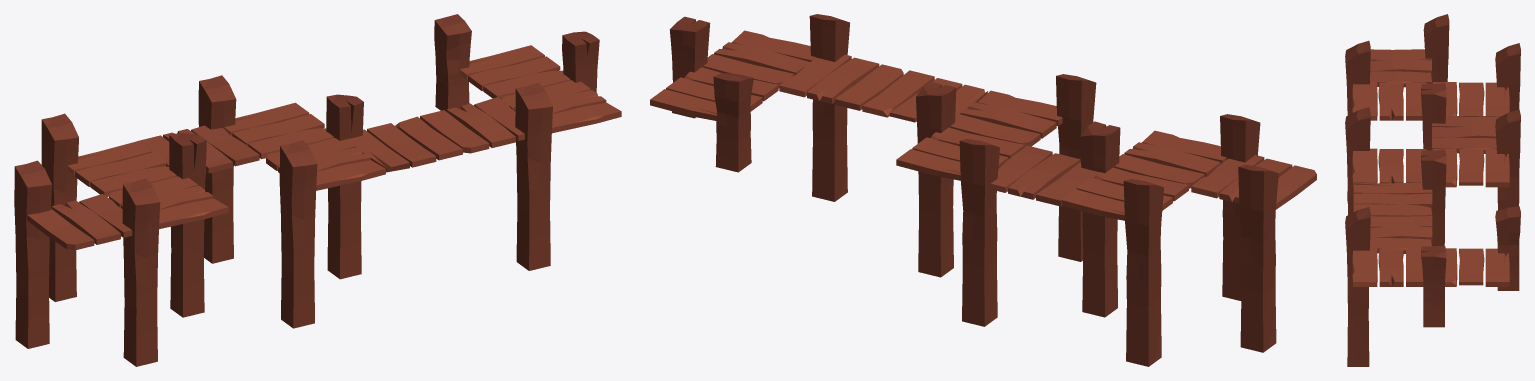
The model's file is m_bg_docksDark_01.fbx.
3 renders of one model, left to right at view 1: azimuth 30°, elevation 25°; view 2: azimuth 150°, elevation 25°; view 3: azimuth 270°, elevation 25°, orthographic. The views are drawn at different scales.
Visible parts, largest first — view 1: m_bg_docksDark_01; view 2: m_bg_docksDark_01; view 3: m_bg_docksDark_01.
Boxes of the visible parts, x1=… form: m_bg_docksDark_01: x1=14, y1=14, x2=621, y2=366; m_bg_docksDark_01: x1=650, y1=14, x2=1316, y2=366; m_bg_docksDark_01: x1=1345, y1=14, x2=1520, y2=366.
Size of the model in its own units: 3631 by 1107 by 1118.
